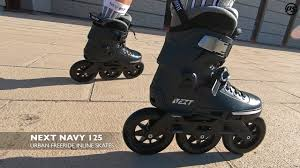roller_blate: (148, 15, 263, 152), (75, 14, 144, 80)
